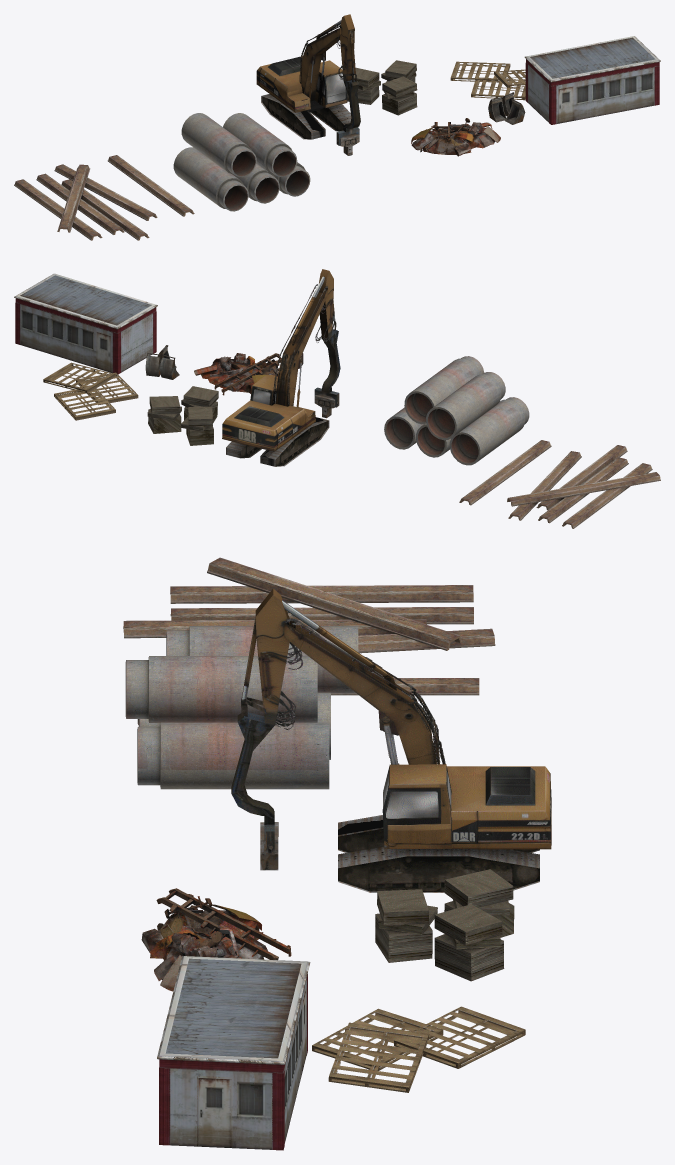
The model's file is Construction Assets.fbx.
The picture shows the model from 3 angles, top to bottom: view 1: azimuth 30°, elevation 25°; view 2: azimuth 150°, elevation 25°; view 3: azimuth 270°, elevation 25°; orthographic projection. The views are drawn at different scales.
Visible parts, largest first — view 1: Portable_Cabin.001, Construction.006, Construction.004, Construction.012, Construction.011, Construction.013, Construction.001, Construction.014, Construction.002, Construction.005, Construction.010, Construction.015 (+4 smaller); view 2: Portable_Cabin.001, Construction.006, Construction.004, Construction.012, Construction.011, Construction.013, Construction.001, Construction.014, Construction.005, Construction.016, Construction.015, Construction.007 (+3 smaller); view 3: Construction.006, Portable_Cabin.001, Construction.004, Construction.007, Construction.013, Construction.014, Construction.001, Construction.016, Construction.002, Construction.012, Construction.015, Construction.003 (+1 smaller).
Part boxes in pixels (bbox=[...]): Portable_Cabin.001: bbox=[524, 36, 660, 124]; Construction.006: bbox=[256, 14, 360, 155]; Construction.004: bbox=[14, 164, 157, 240]; Construction.012: bbox=[181, 113, 256, 177]; Construction.011: bbox=[173, 147, 248, 211]; Construction.013: bbox=[223, 113, 297, 177]; Construction.001: bbox=[411, 118, 500, 156]; Construction.014: bbox=[450, 61, 525, 87]; Construction.002: bbox=[382, 76, 417, 115]; Construction.005: bbox=[107, 155, 194, 216]; Construction.010: bbox=[233, 164, 279, 203]; Construction.015: bbox=[347, 67, 380, 104]; Portable_Cabin.001: bbox=[14, 273, 157, 374]; Construction.006: bbox=[222, 269, 340, 466]; Construction.004: bbox=[507, 445, 660, 528]; Construction.012: bbox=[426, 372, 505, 440]; Construction.011: bbox=[449, 397, 529, 465]; Construction.013: bbox=[404, 356, 484, 424]; Construction.001: bbox=[194, 353, 281, 395]; Construction.014: bbox=[43, 362, 115, 420]; Construction.005: bbox=[459, 440, 551, 505]; Construction.016: bbox=[147, 396, 181, 433]; Construction.015: bbox=[181, 406, 214, 445]; Construction.007: bbox=[384, 407, 423, 449]; Construction.006: bbox=[231, 588, 551, 892]; Portable_Cabin.001: bbox=[157, 956, 310, 1150]; Construction.004: bbox=[123, 557, 495, 653]; Construction.007: bbox=[137, 722, 329, 789]; Construction.013: bbox=[125, 656, 317, 722]; Construction.014: bbox=[328, 1006, 525, 1092]; Construction.001: bbox=[141, 888, 291, 991]; Construction.016: bbox=[434, 904, 504, 981]; Construction.002: bbox=[375, 889, 437, 962]; Construction.012: bbox=[166, 626, 358, 693]; Construction.015: bbox=[444, 869, 514, 937]; Construction.003: bbox=[312, 1008, 443, 1070].
Size of the model in its own units: 4133 by 920 by 1293.
